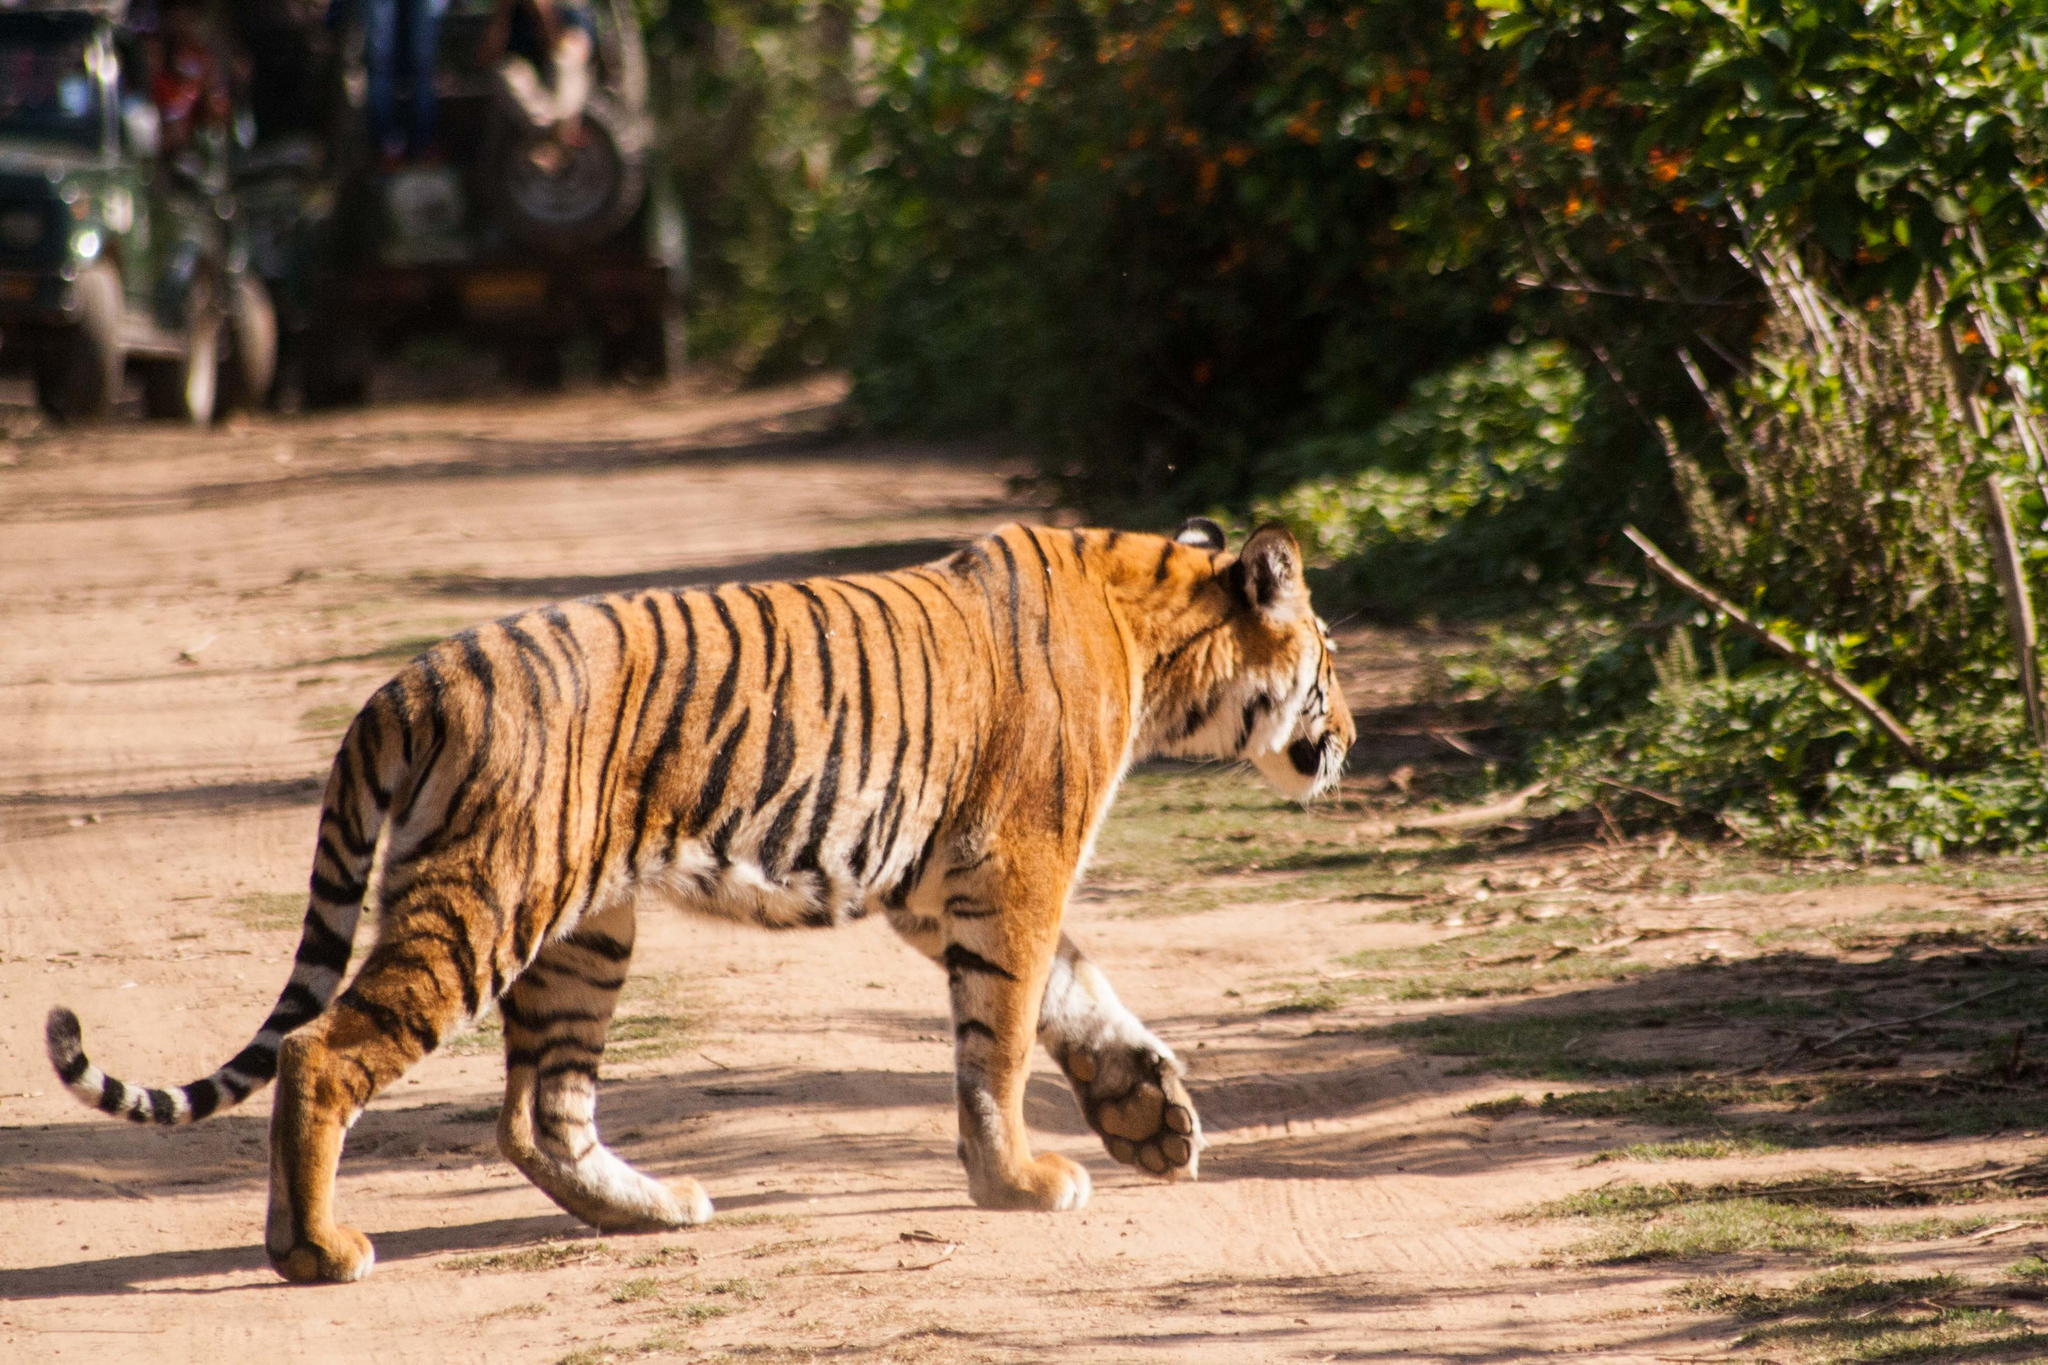tiger: (212, 513, 1354, 1248)
